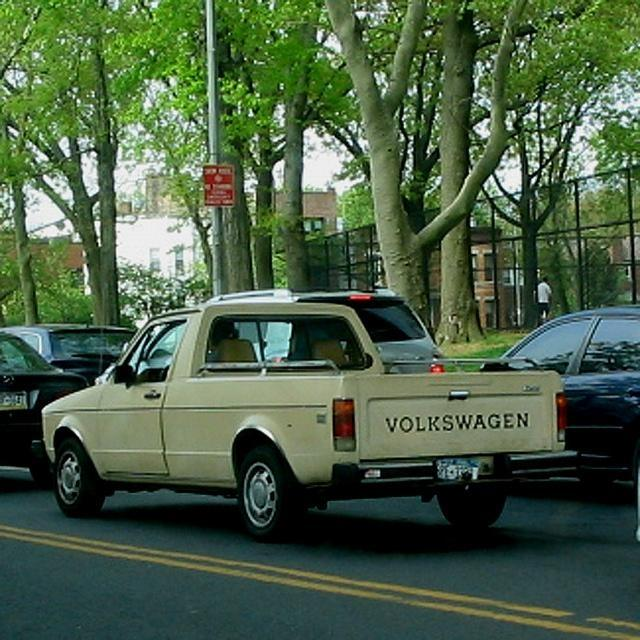car: (479, 308, 640, 486), (204, 288, 442, 362), (5, 332, 86, 486), (0, 322, 140, 386)
truck: (41, 286, 580, 542)
